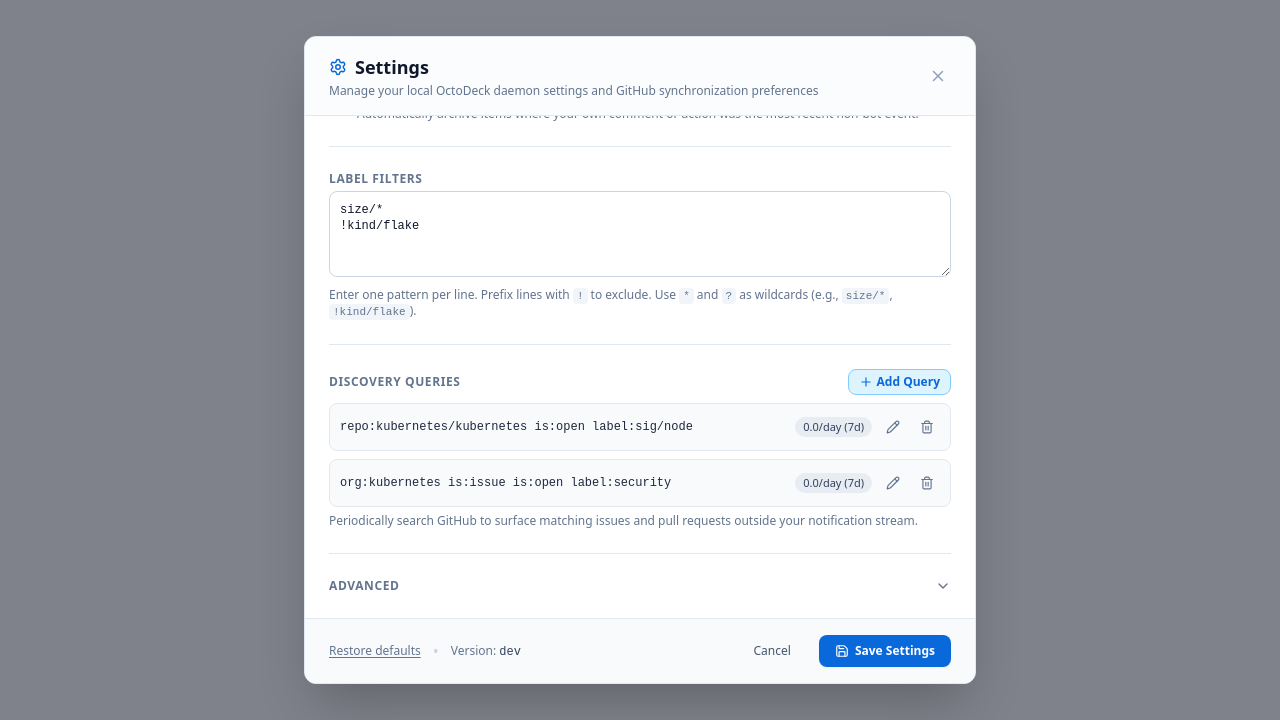
Test: Settings Component › shows confirmation prompt when clicking Restore defaults link and restores values upon confirmation
The width and height of the screenshot is (1280, 720).
(page scrolled)
Step 1. Click the button "Advanced" → (364, 586), box [329,578,951,594]
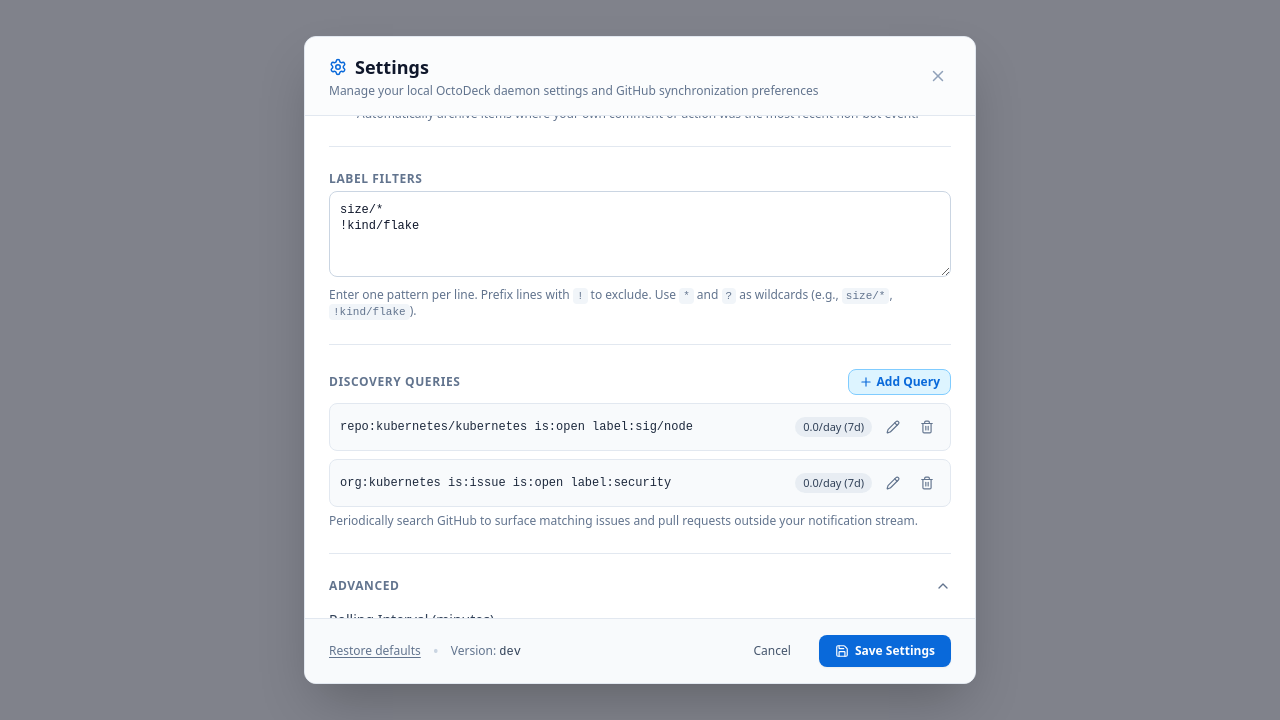
Step 2. Click the button "Restore defaults" → (375, 651), box [329,643,421,659]
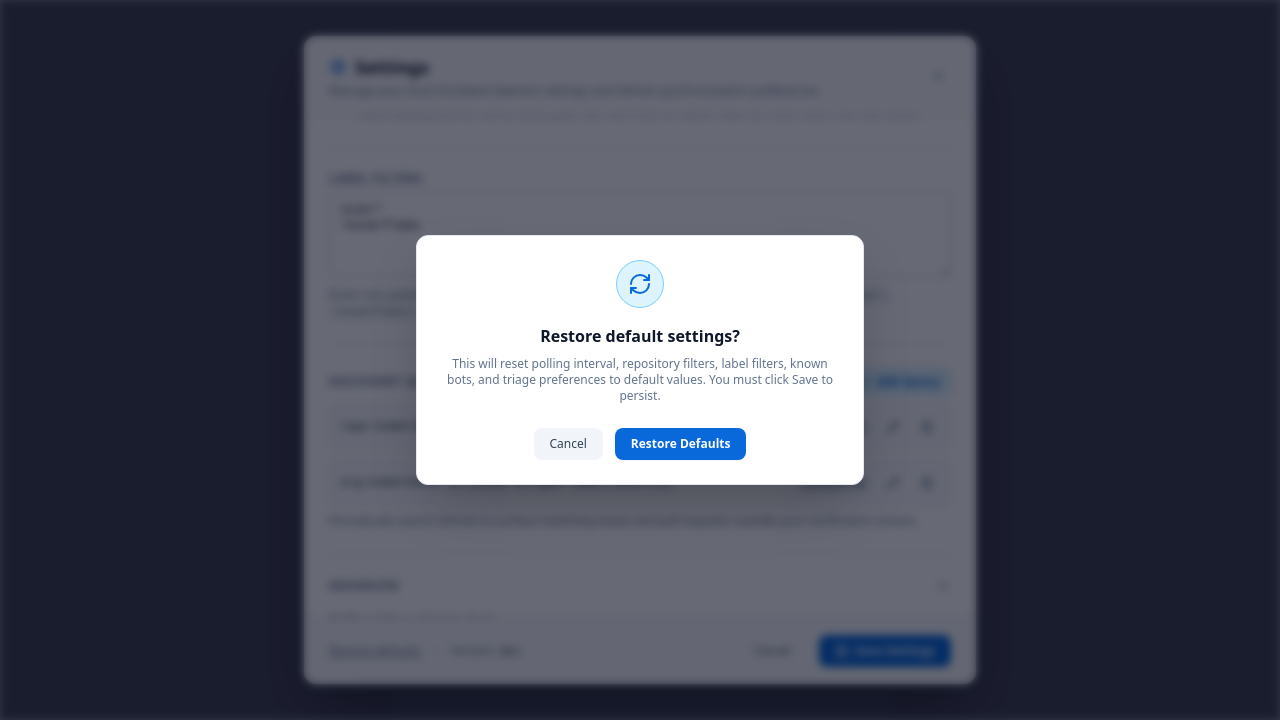
expect the heading "Restore default settings?" is shown: met, box [540,325,740,347]
Cancel does not reset
Step 3. Click the button "Cancel" → (568, 444), box [534,428,603,460]
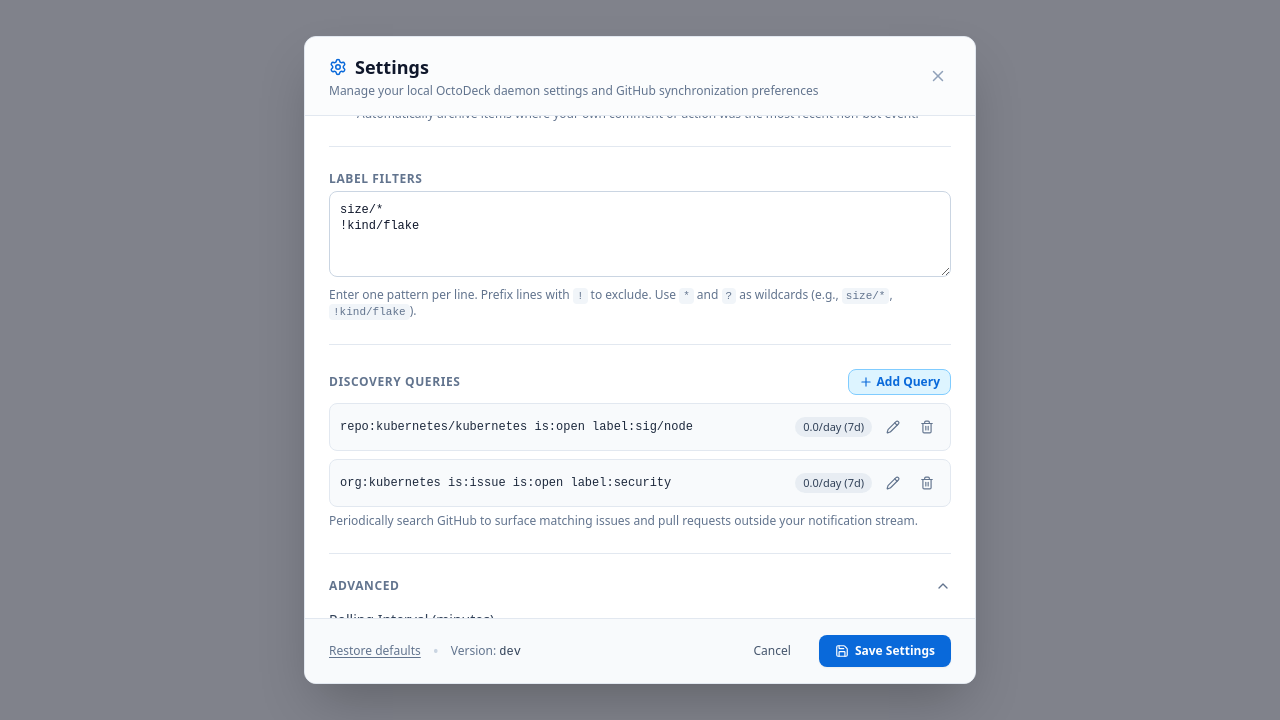
Click link again and confirm
Step 4. Click the button "Restore defaults" → (375, 651), box [329,643,421,659]
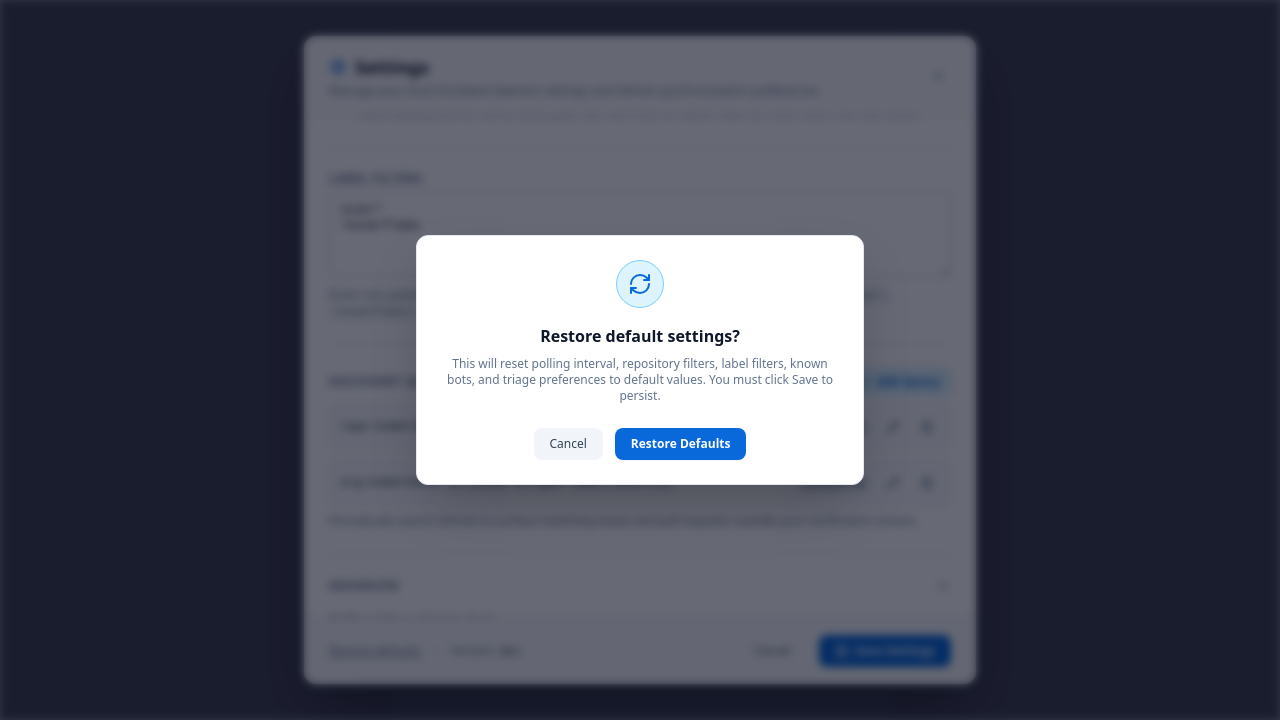
expect the heading "Restore default settings?" is shown: met, box [540,325,740,347]
Step 5. Click the button "Restore Defaults" → (681, 444), box [615,428,746,460]
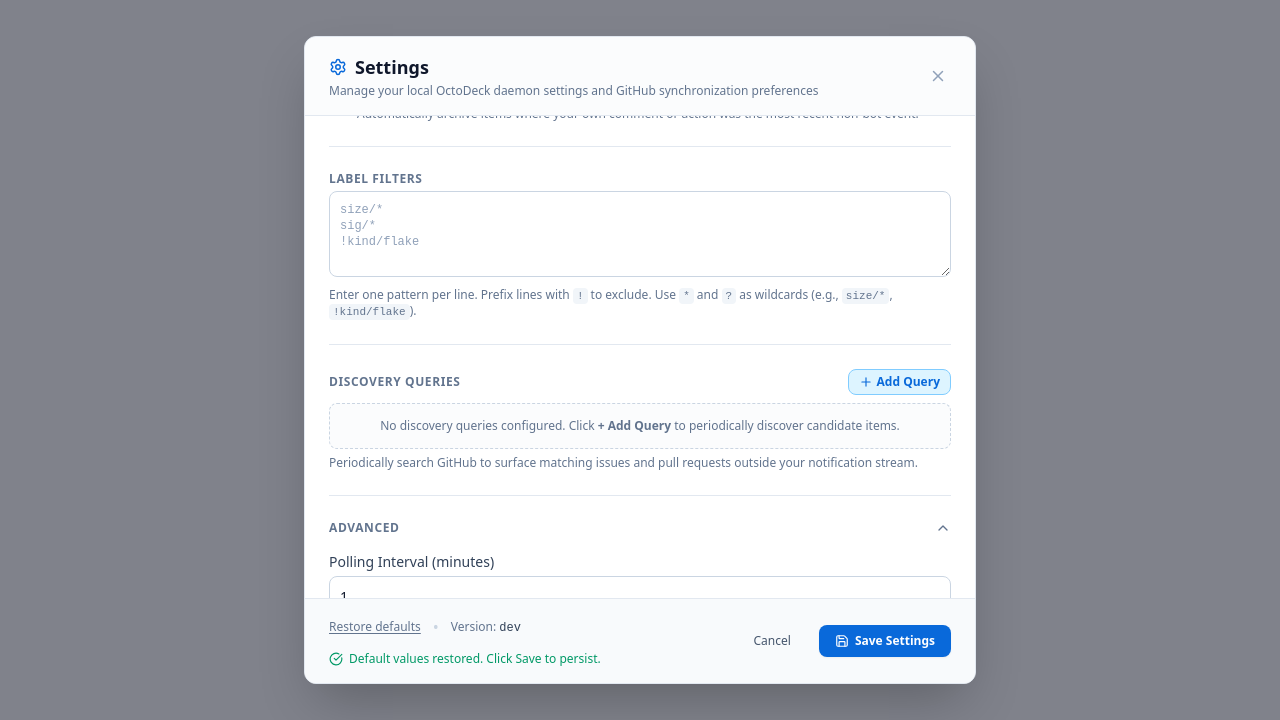
expect the text box labelled "Label Filters" is empty: met, box [329,191,951,277]
expect the text "Default values restored. Click Save to persist." is shown: met, box [349,651,601,667]
